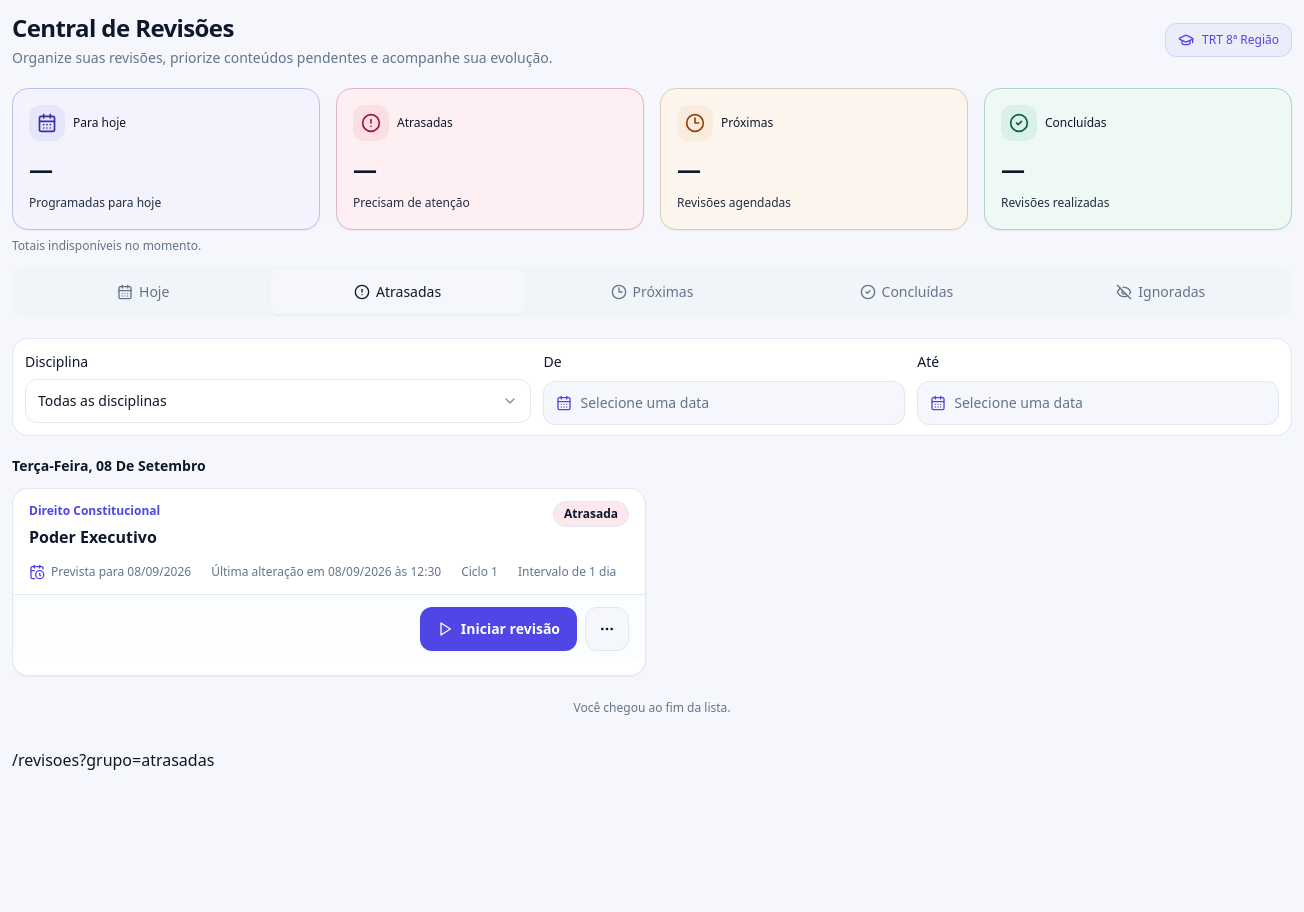
Test case: Revisoes › reflete o grupo na URL e carrega a fila do novo grupo
Expected: the text "Poder Executivo" is shown, [29, 526, 157, 548]
Click the tab "Próximas": (652, 292) [525, 270, 779, 314]
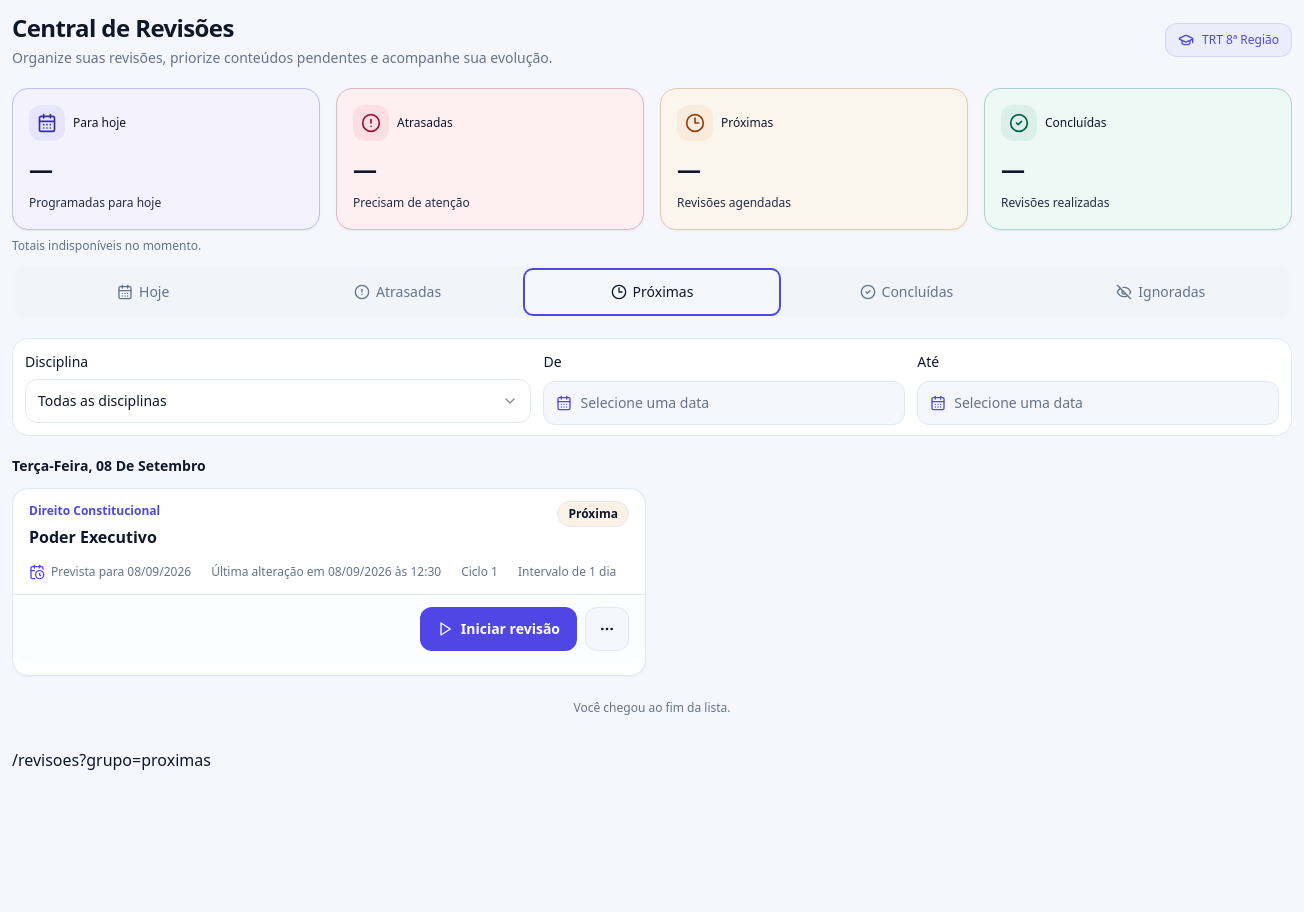
Now the text with test id "location" shows "grupo=proximas", box [79, 748, 211, 770]
